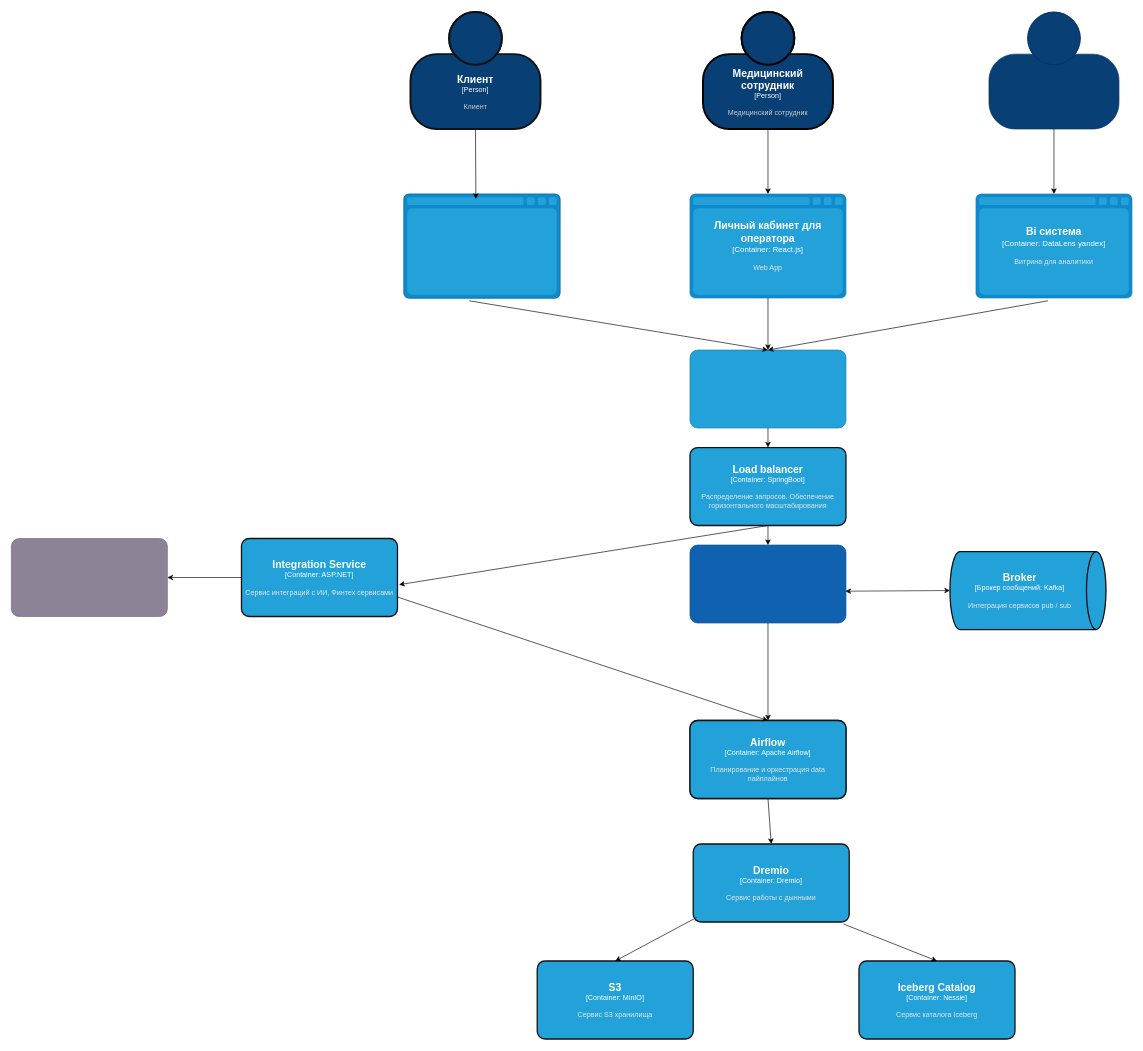
Some shapes in this 1143 by 1051 pixel diagram are drawn without their labels. Each missing label, with the centre of its shape:
"Web Portal [Container: React.js] Портал сомообслуживания" goes at [481,245].
"Аналитик [Person]" goes at [1053,70].
"Внешние системы [Software System]" goes at [89,577].
"Внутренние сервисы [Software System] Description of software system." goes at [767,583].
"Сервис Авторизации аутентификации [Container: Keycloak] sso" goes at [767,388].
